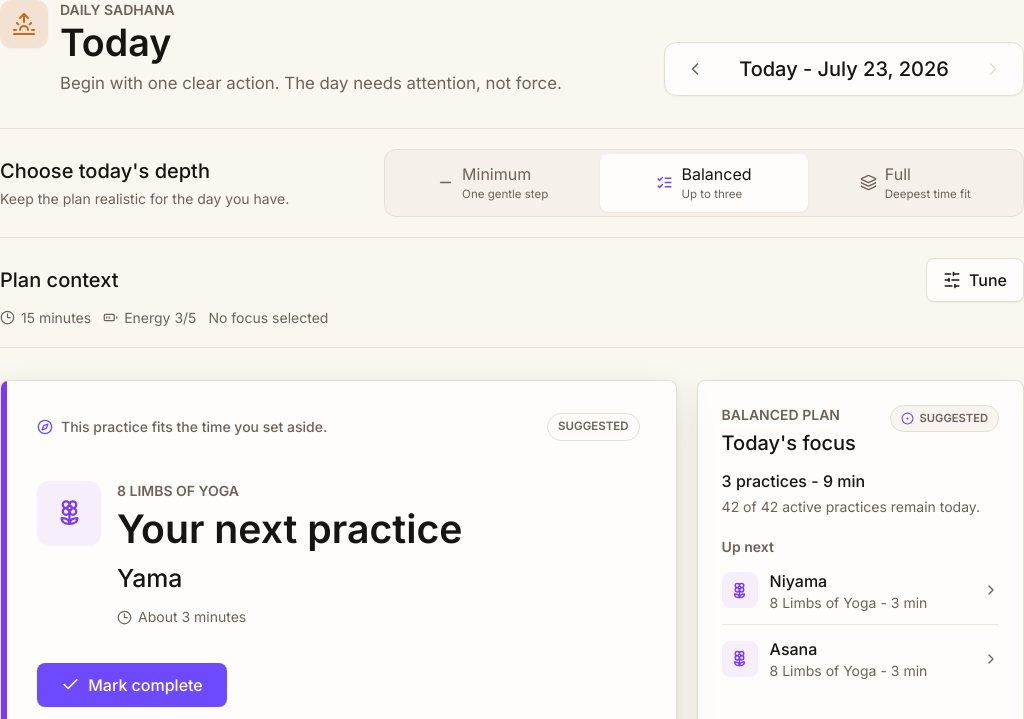
Scenario: TodayScreen › uses the daily check-in to prepare and persist an explainable plan
Click the button with aria-label "Tune plan" at {"x": 975, "y": 280}, box [926,258,1023,302]
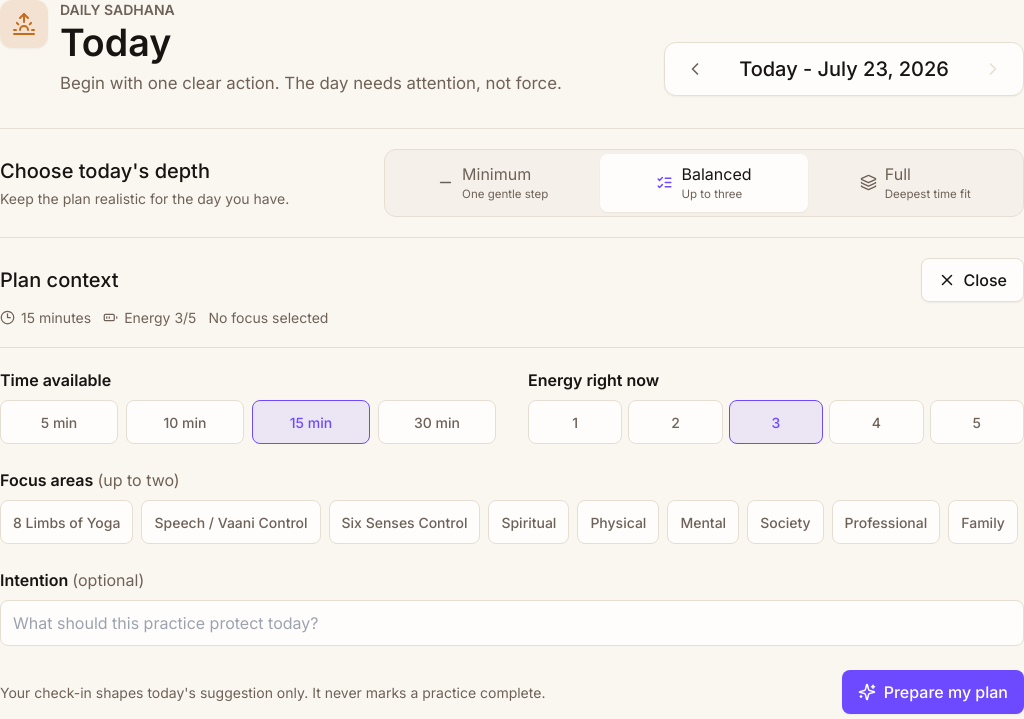
Click the button named "Very low energy, 1 of 5" at {"x": 575, "y": 422}, box [528,400,622,444]
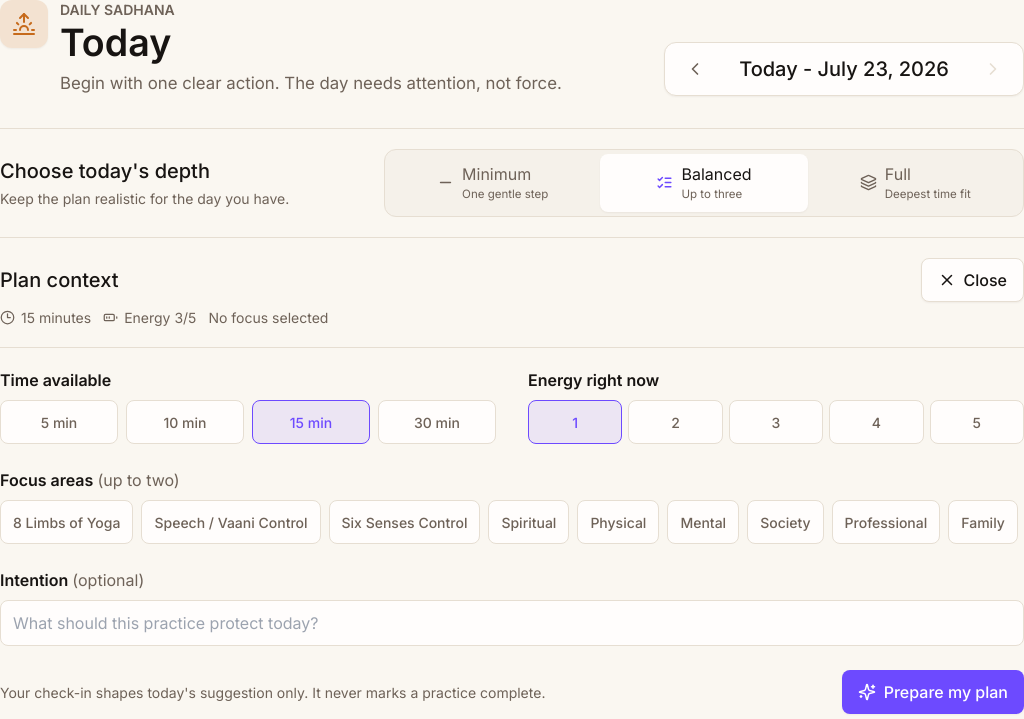
Click the button "Physical" at {"x": 618, "y": 522}, box [577,500,659,544]
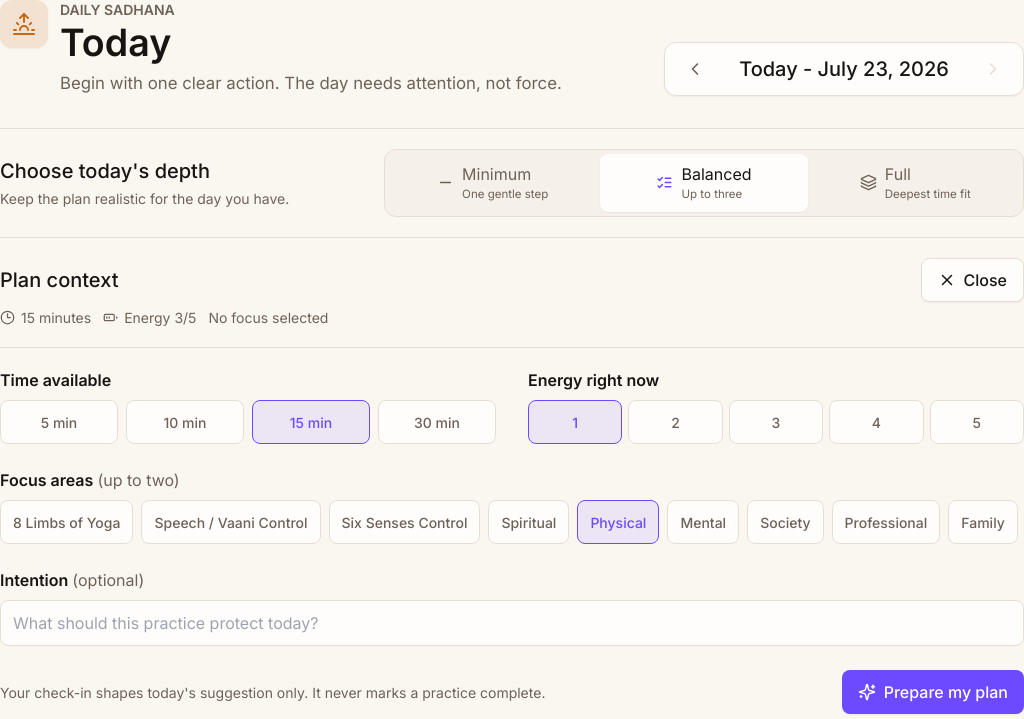
Type "Protect steady energy" into the field with placeholder "What should this practice protect today?" at {"x": 512, "y": 623}, box [0,600,1023,646]
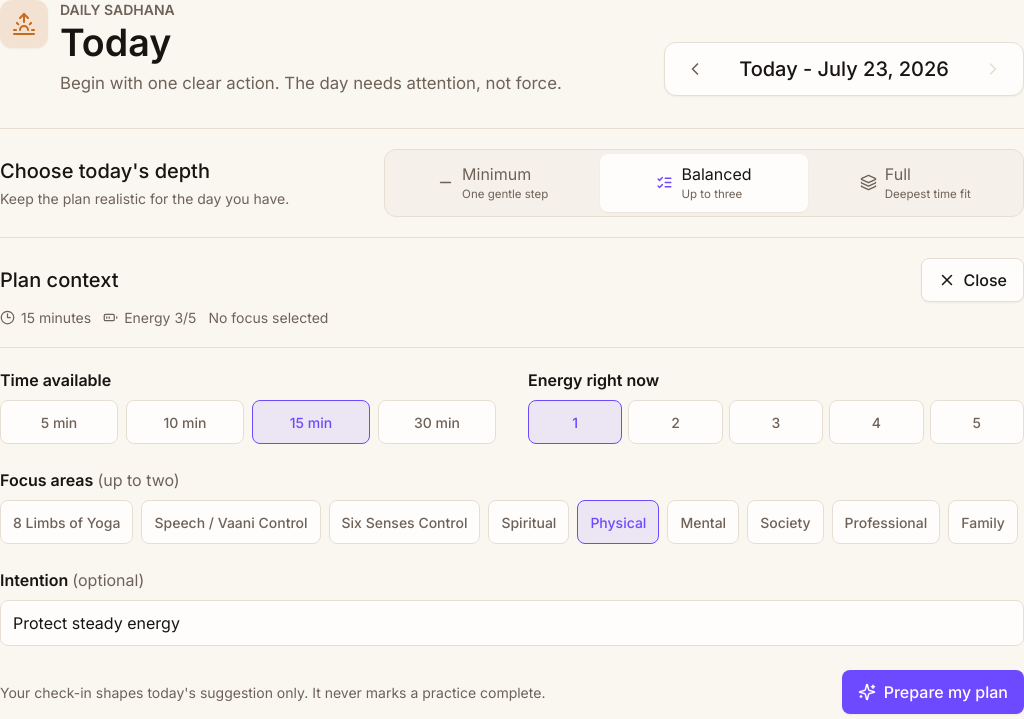
Click the button "Prepare my plan" at {"x": 933, "y": 692}, box [842,670,1023,714]
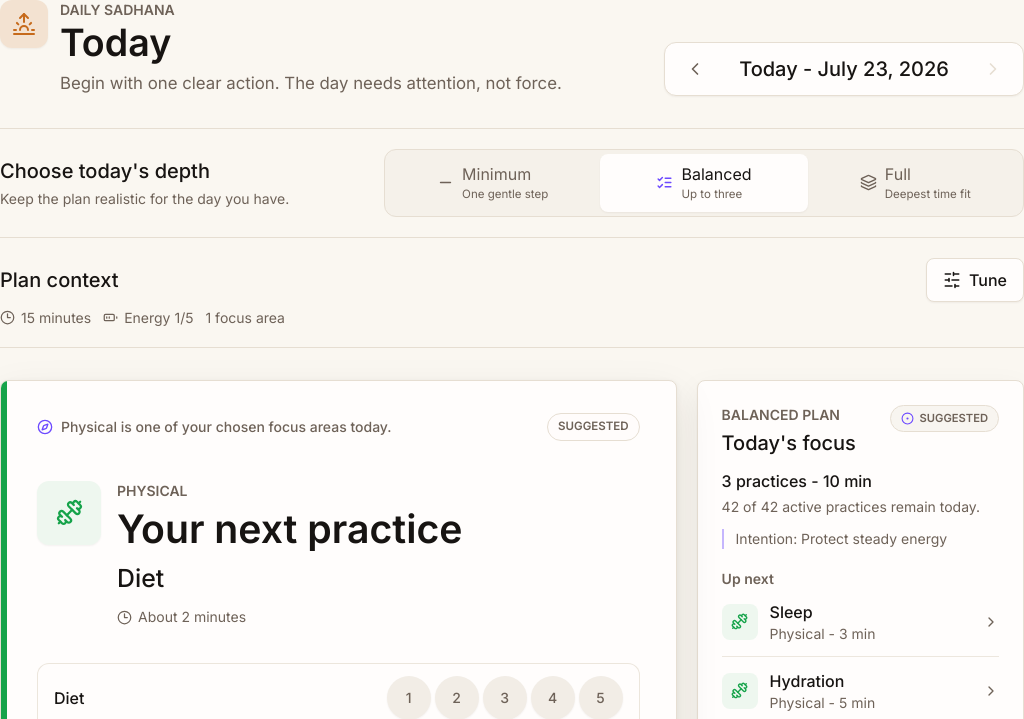
Expected: the text "Physical is one of your chosen focus areas today." is shown, [61,417,392,437]
